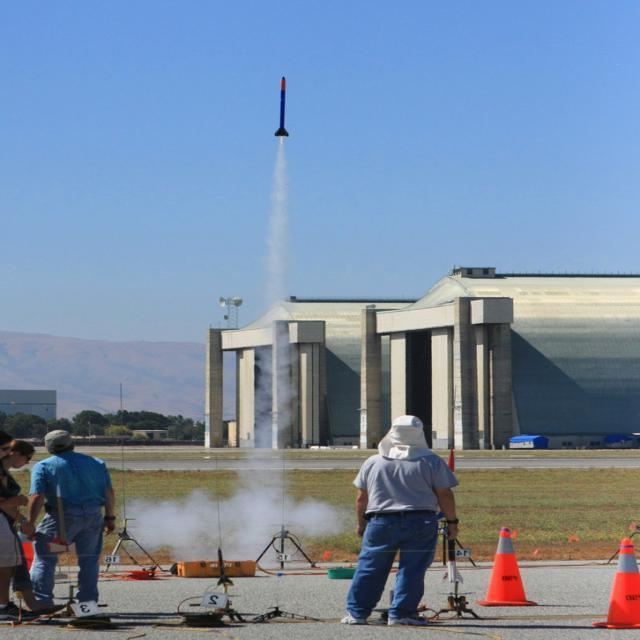missile: (272, 74, 288, 140)
